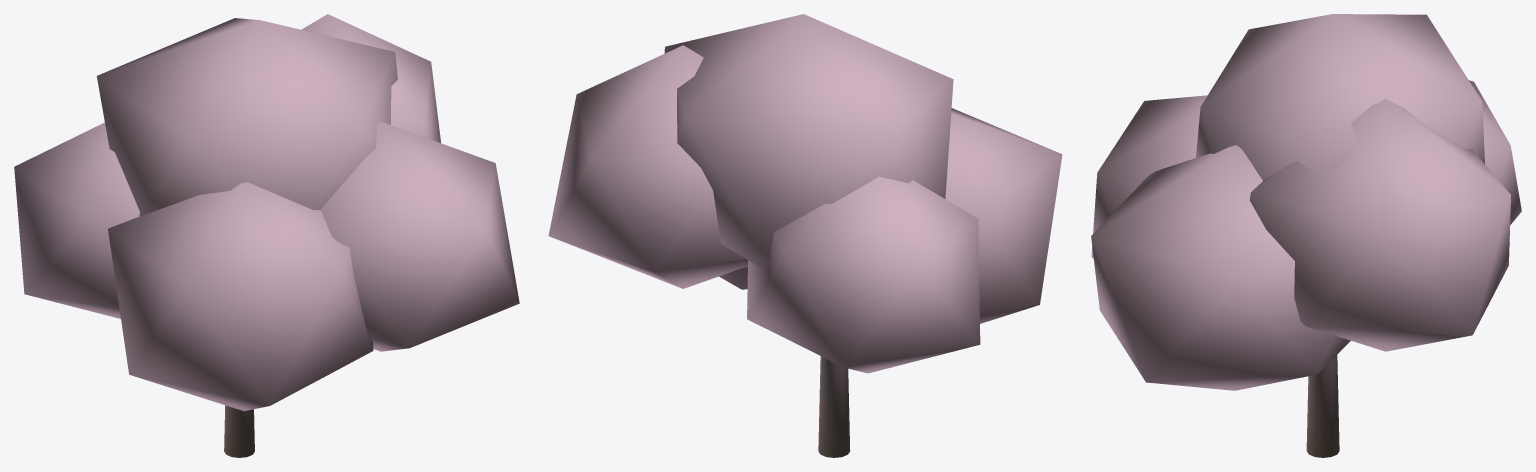
Rendered from flower_a.glb.
The picture shows the model from 3 angles, left to right: view 1: azimuth 30°, elevation 25°; view 2: azimuth 150°, elevation 25°; view 3: azimuth 270°, elevation 25°; orthographic projection. The views are drawn at different scales.
Parts seen in each view (by area): view 1: flower_a; view 2: flower_a; view 3: flower_a.
Boxes of the visible parts, <box> form: flower_a: <box>14,14,519,457</box>; flower_a: <box>548,14,1062,457</box>; flower_a: <box>1091,14,1521,457</box>.
Size of the model in its own units: 2.39 by 2.41 by 2.09.
